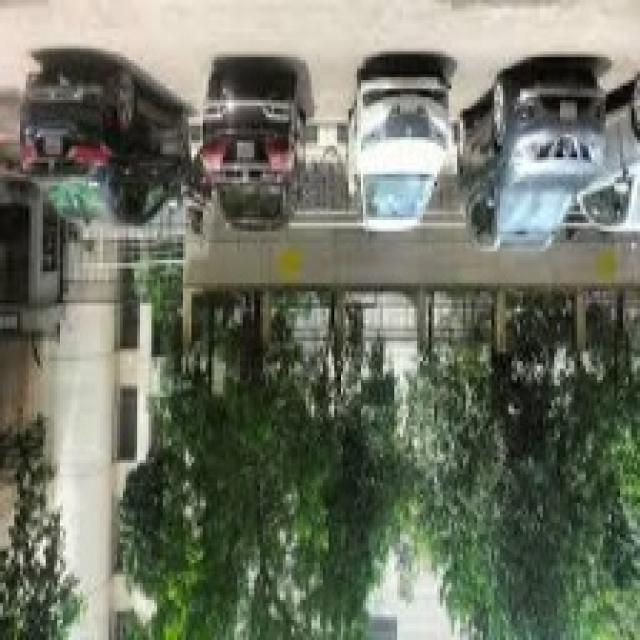car: (13, 62, 187, 251), (460, 68, 605, 266), (332, 61, 459, 230), (199, 70, 309, 247)
